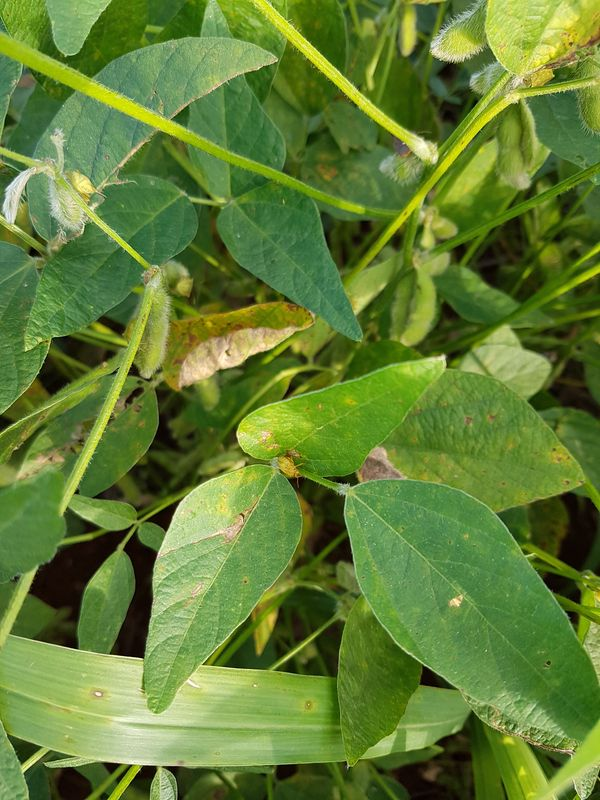Euschistus_heros_adulto: (386, 127, 427, 167)
Euschistus_heros_ninfa: (272, 452, 306, 485)
